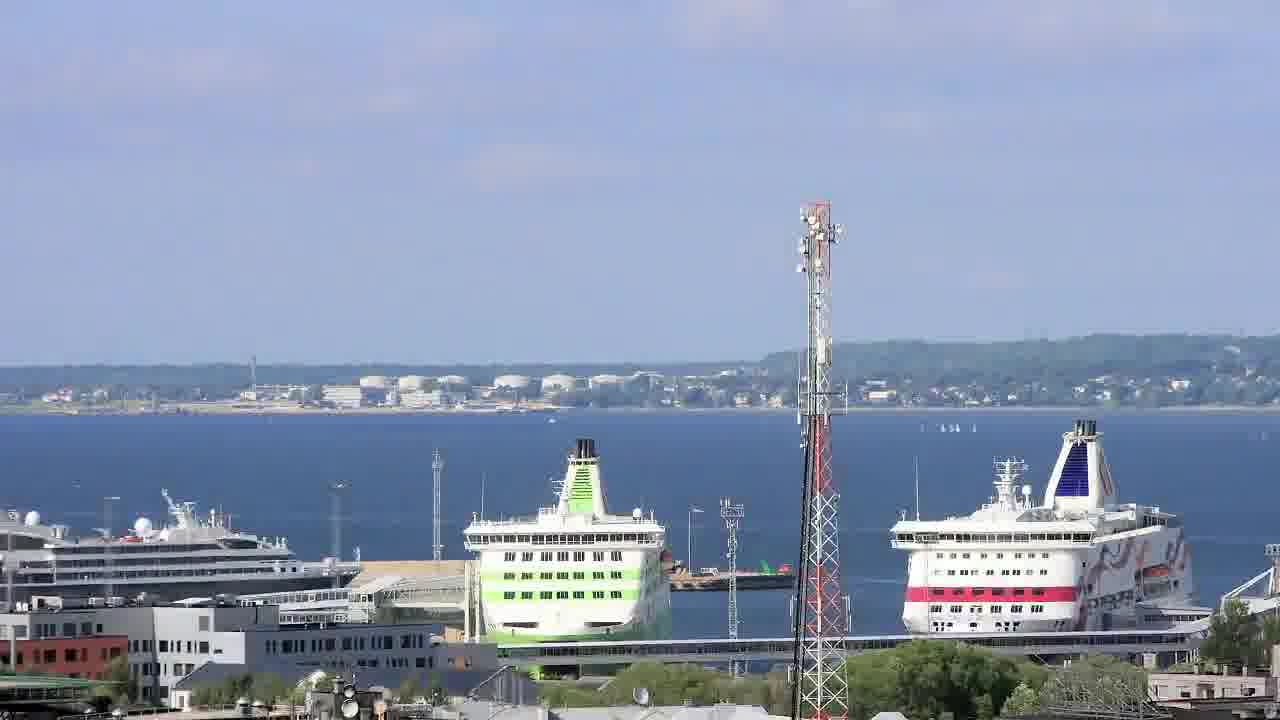type-3: (868, 415, 1225, 638), (436, 434, 694, 670), (0, 471, 370, 608)
